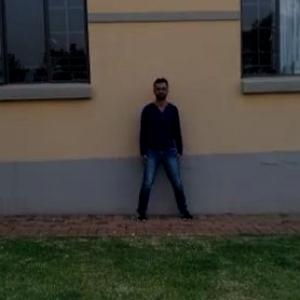follow: (138, 76, 181, 224)
